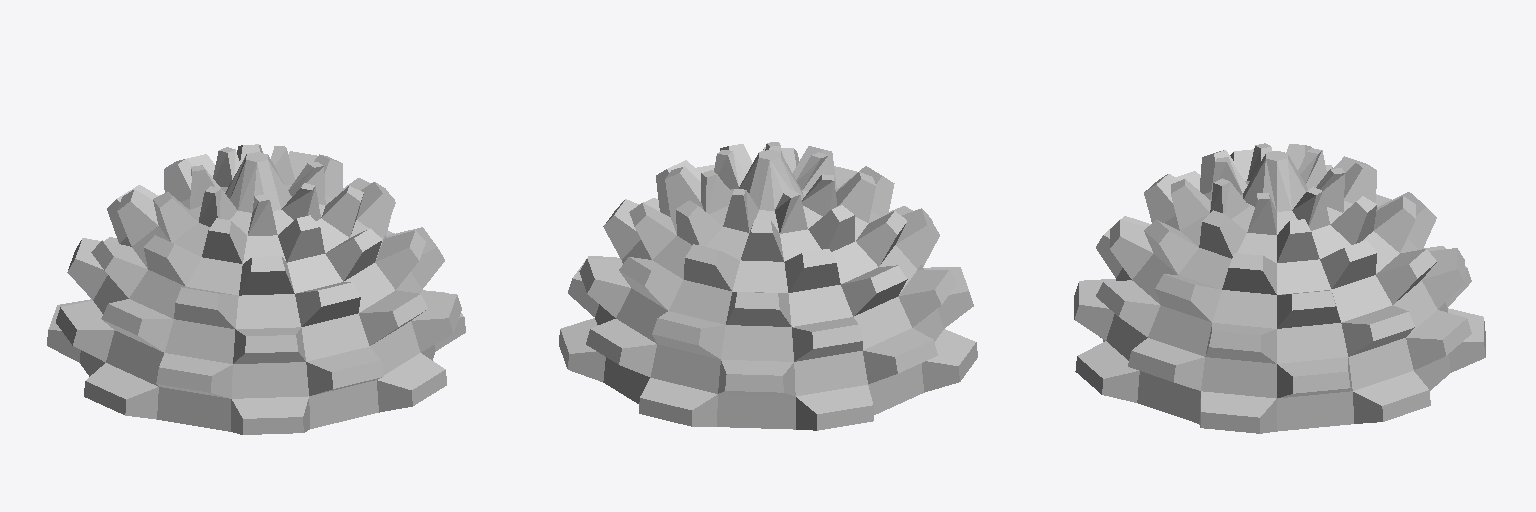
The model's file is Bush.obj.
The picture shows the model from 3 angles: view 1: azimuth 30°, elevation 25°; view 2: azimuth 150°, elevation 25°; view 3: azimuth 270°, elevation 25°; orthographic projection.
Visible parts, largest first — view 1: pSphere1; view 2: pSphere1; view 3: pSphere1.
Part boxes in pixels (left/top/right/bottom): pSphere1: left=47, top=144, right=465, bottom=434; pSphere1: left=559, top=142, right=977, bottom=430; pSphere1: left=1074, top=143, right=1485, bottom=433.
Bounding box in the file's own units: 2.36 × 1.24 × 2.3.